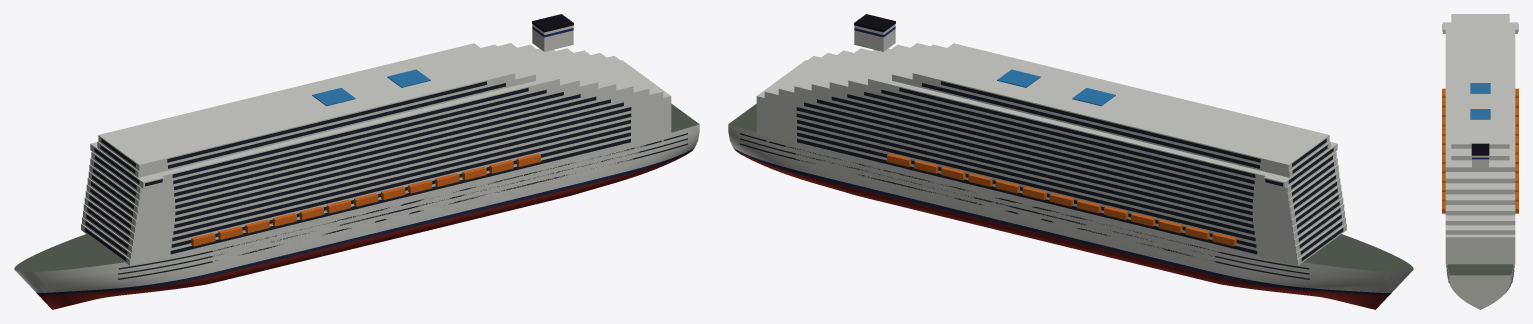
Rendered from cruise_ship.glb.
3 views of the same model, side by side, from view 1: azimuth 30°, elevation 25°; view 2: azimuth 150°, elevation 25°; view 3: azimuth 270°, elevation 25° (orthographic). The views are drawn at different scales.
Parts seen in each view (by area): view 1: cruise_ship; view 2: cruise_ship; view 3: cruise_ship.
Boxes of the visible parts, x1,y1,x2,y2 form: cruise_ship: [14, 14, 699, 309]; cruise_ship: [728, 14, 1413, 309]; cruise_ship: [1442, 14, 1518, 309].
Bounding box in the file's own units: 318 × 75.93 × 44.99.
